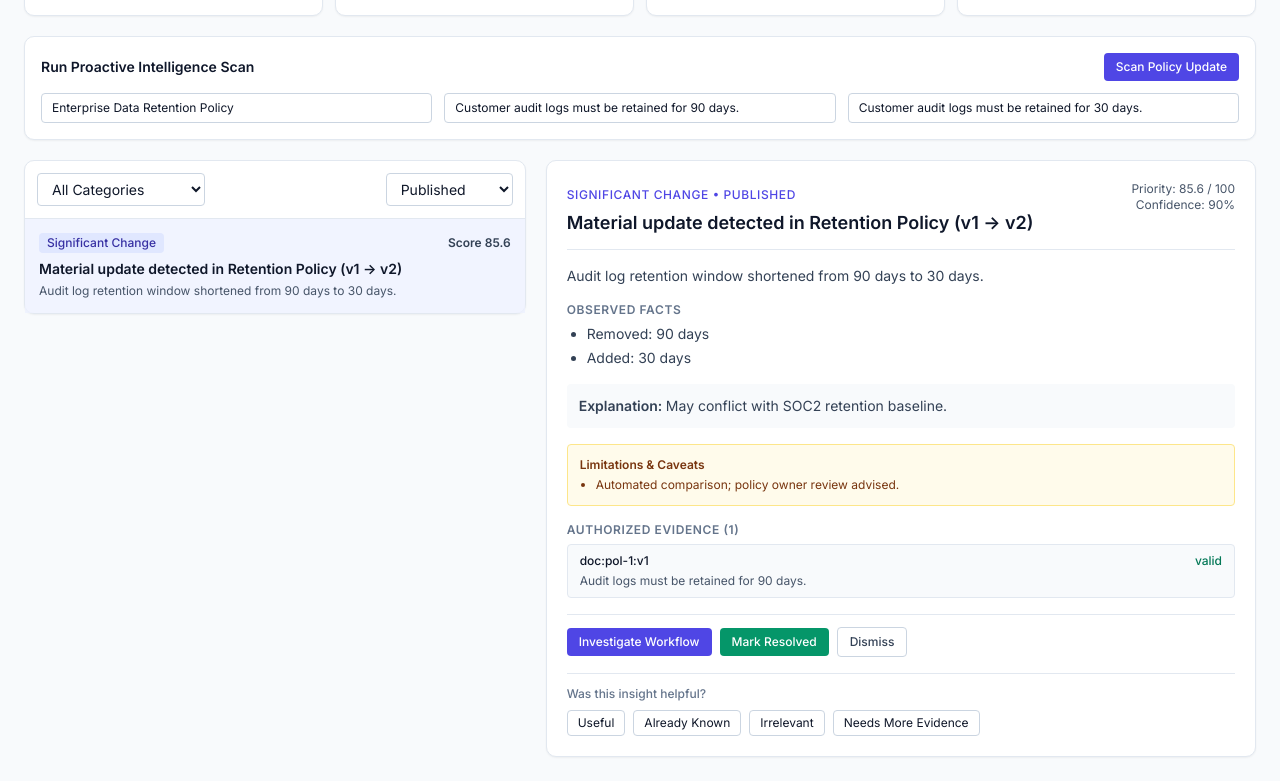
Test case: Phase 4.11 Proactive IntelligenceFeedPage › renders metrics, ranked feed, evidence, and records feedback
The image size is (1280, 781).
(page scrolled)
expect the 2nd heading "Material update detected in Retention Policy (v1 -> v2)" is shown: met, box [39,260,402,277]
expect the text "doc:pol-1:v1" is shown: met, box [580,553,649,569]
Click the button "Useful" at (596, 723), box [567,710,625,736]
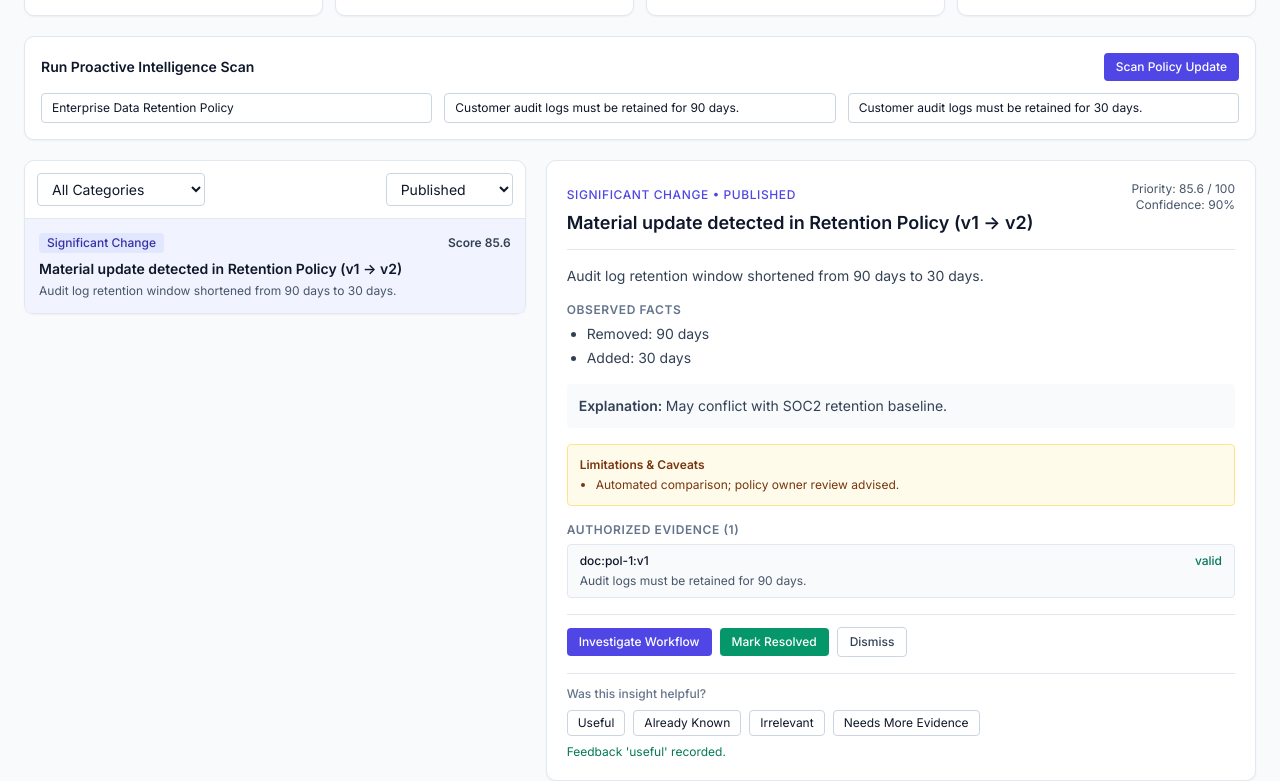
expect the message reads "Feedback 'useful' recorded.": met, box [567,744,726,759]
